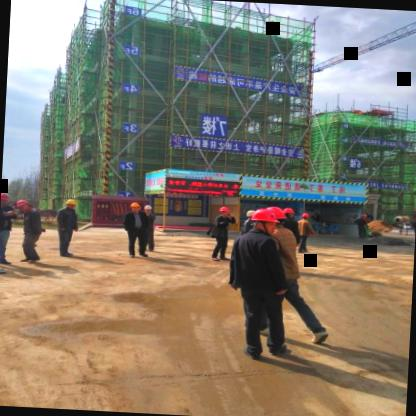helmet: (250, 208, 278, 234), (266, 206, 286, 228), (214, 204, 233, 219), (13, 198, 31, 212), (62, 196, 80, 210), (126, 202, 144, 214), (282, 206, 296, 220), (0, 190, 11, 206), (298, 210, 312, 222), (143, 203, 155, 215)
